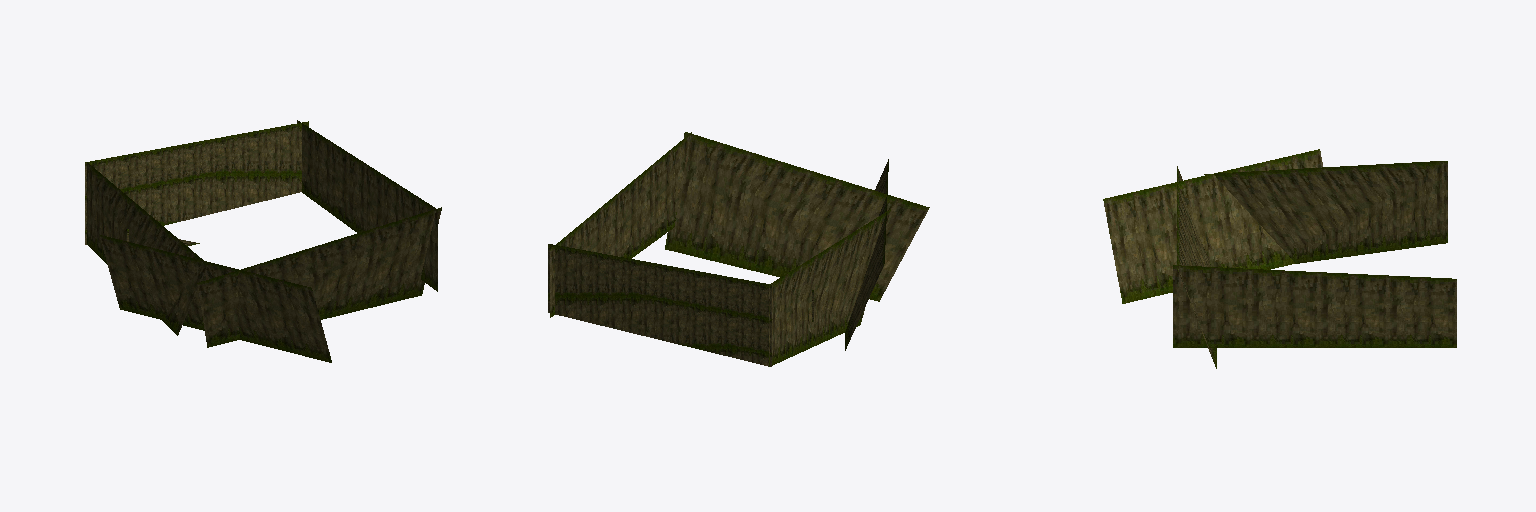
The picture shows the model from 3 angles: view 1: azimuth 30°, elevation 25°; view 2: azimuth 150°, elevation 25°; view 3: azimuth 270°, elevation 25°; orthographic projection.
Parts seen in each view (by area): view 1: wall; view 2: wall; view 3: wall.
Boxes of the visible parts, box(x1,y1,x2,y2) form: wall: box(85, 120, 441, 362); wall: box(548, 132, 929, 366); wall: box(1103, 149, 1456, 368).
Bounding box in the file's own units: 88.66 × 33.35 × 99.31.
1 materials, 1 textured.